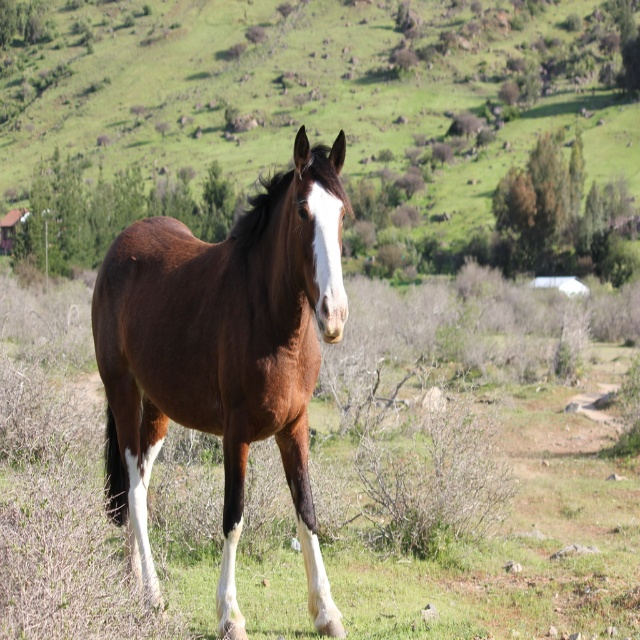Horse: (91, 124, 359, 640)
